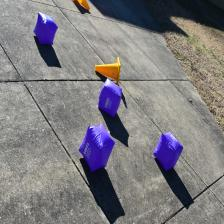cone: (94, 56, 120, 86), (72, 0, 90, 11)
cube: (78, 123, 116, 173), (153, 131, 183, 172), (98, 78, 122, 118), (33, 12, 58, 46)
